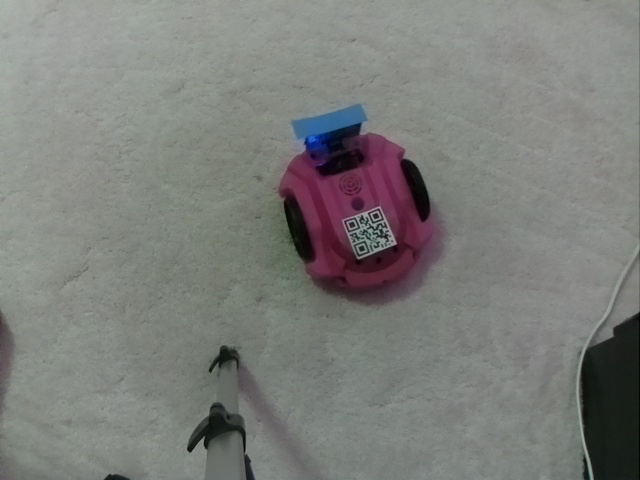chassis: (275, 106, 434, 299)
qr: (340, 205, 399, 262)
